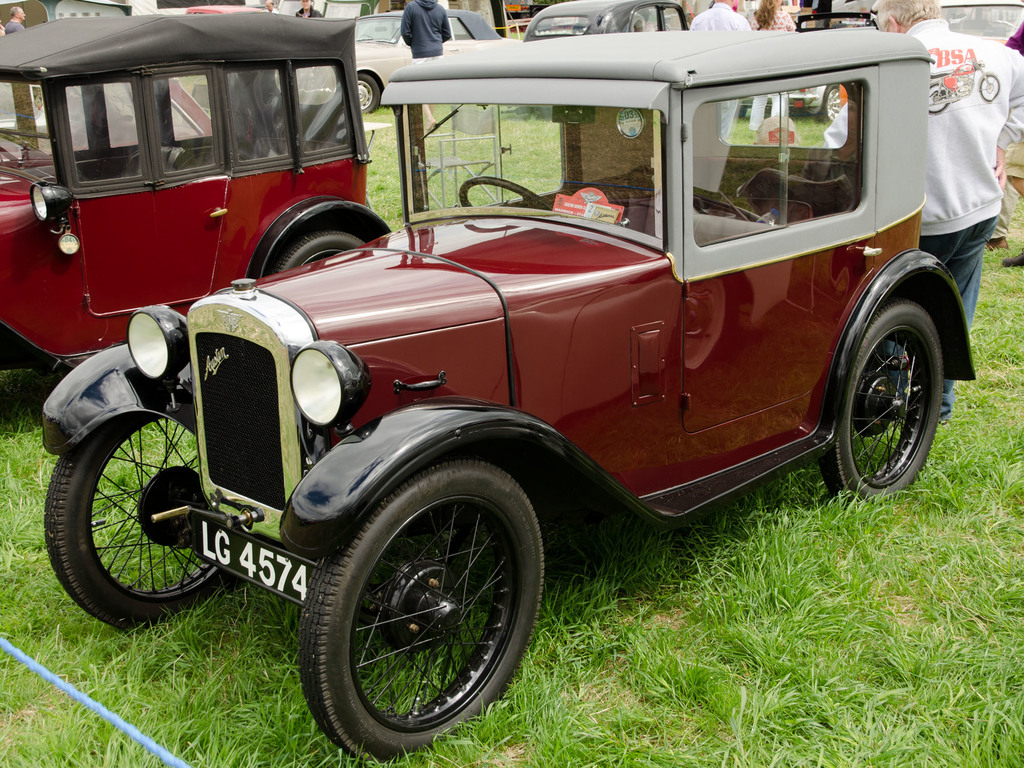Car: (28, 8, 960, 766), (0, 16, 400, 375), (298, 16, 496, 115)
